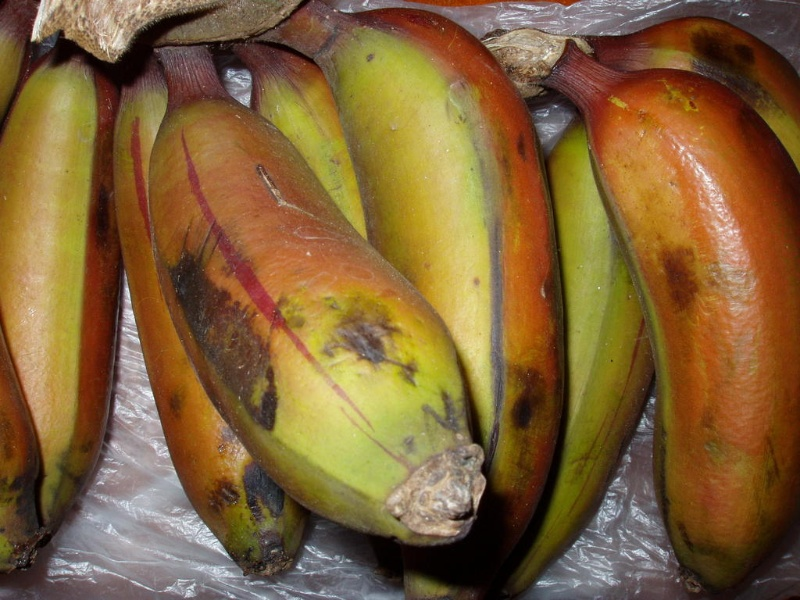banana: (146, 49, 503, 567), (518, 32, 799, 600)
